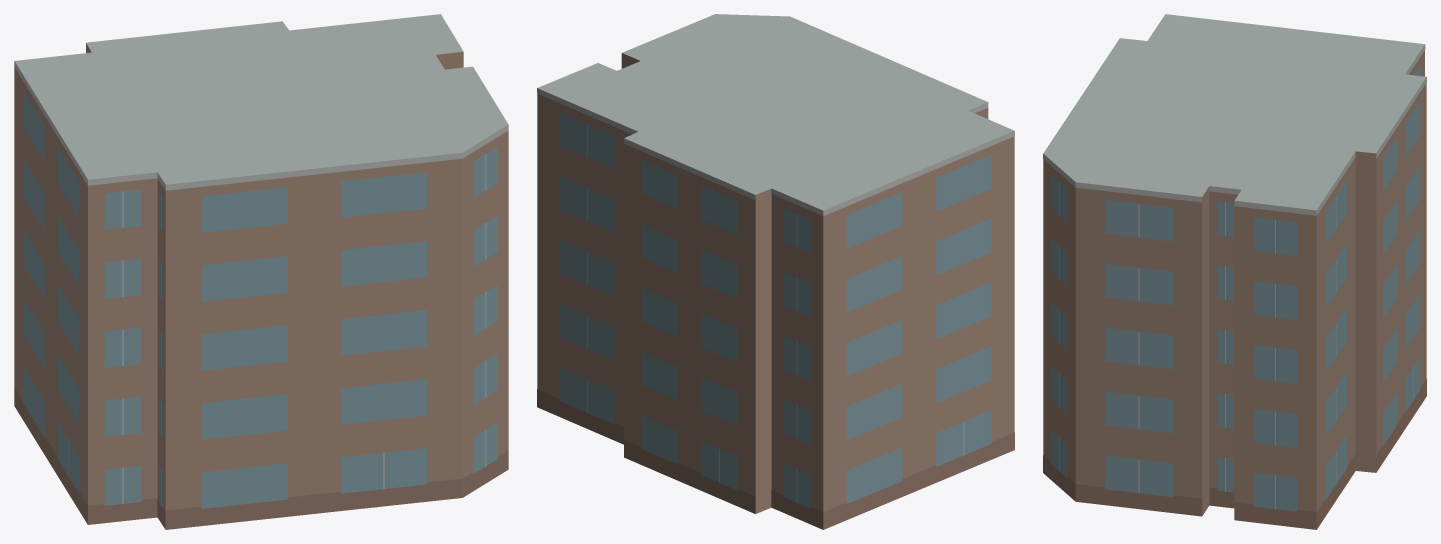
The model's file is survey-upis-32886072.glb.
3 renders of one model, left to right at view 1: azimuth 30°, elevation 25°; view 2: azimuth 150°, elevation 25°; view 3: azimuth 270°, elevation 25°, orthographic. The views are drawn at different scales.
Parts seen in each view (by area): view 1: survey-upis-32886072.tmp; view 2: survey-upis-32886072.tmp; view 3: survey-upis-32886072.tmp.
Boxes of the visible parts, x1,y1,x2,y2 form: survey-upis-32886072.tmp: (14, 14, 508, 529); survey-upis-32886072.tmp: (537, 14, 1014, 529); survey-upis-32886072.tmp: (1043, 14, 1426, 529).
Bounding box in the file's own units: 18.86 × 14.3 × 15.57.
